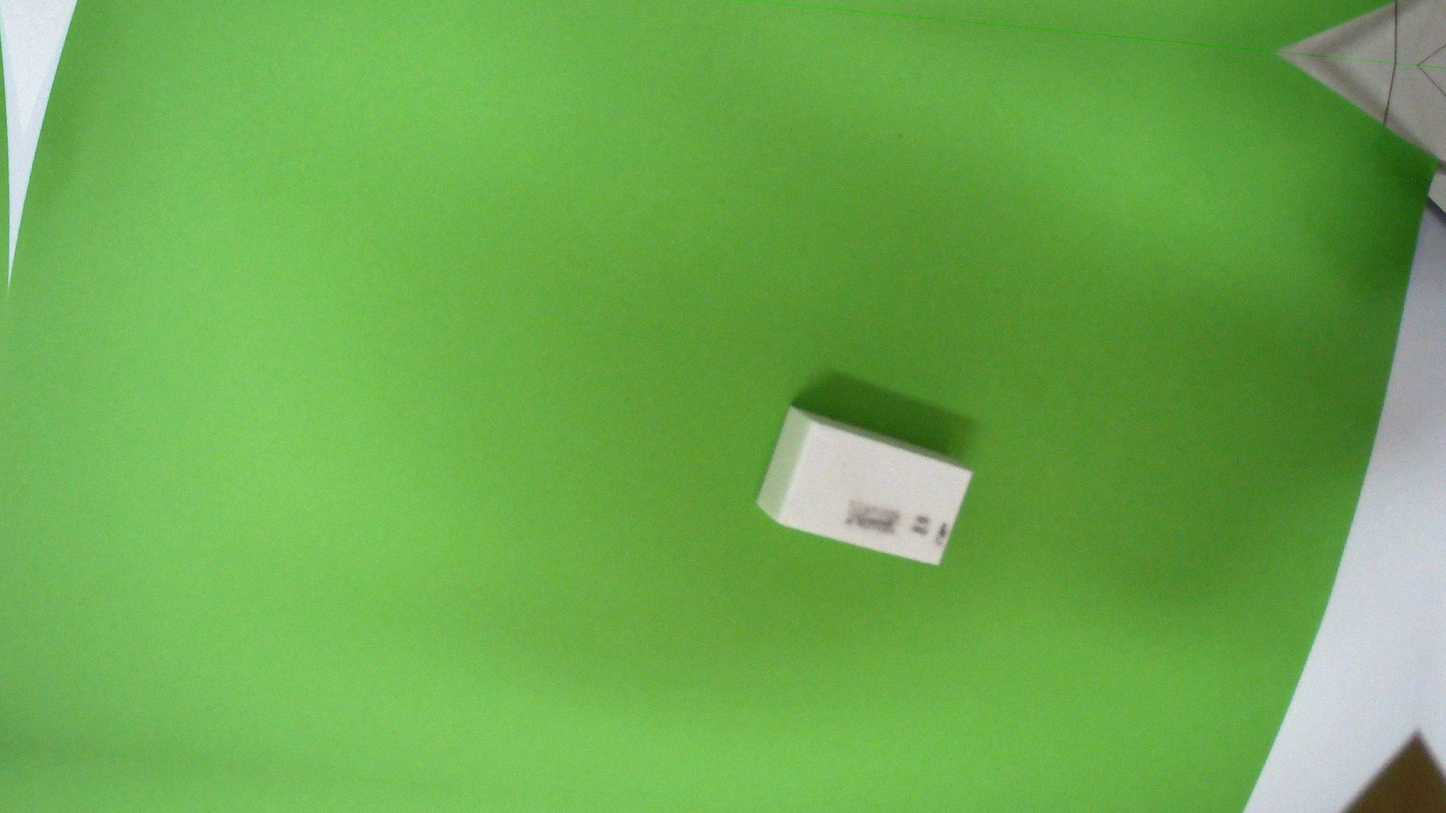gom: (753, 396, 975, 575)
